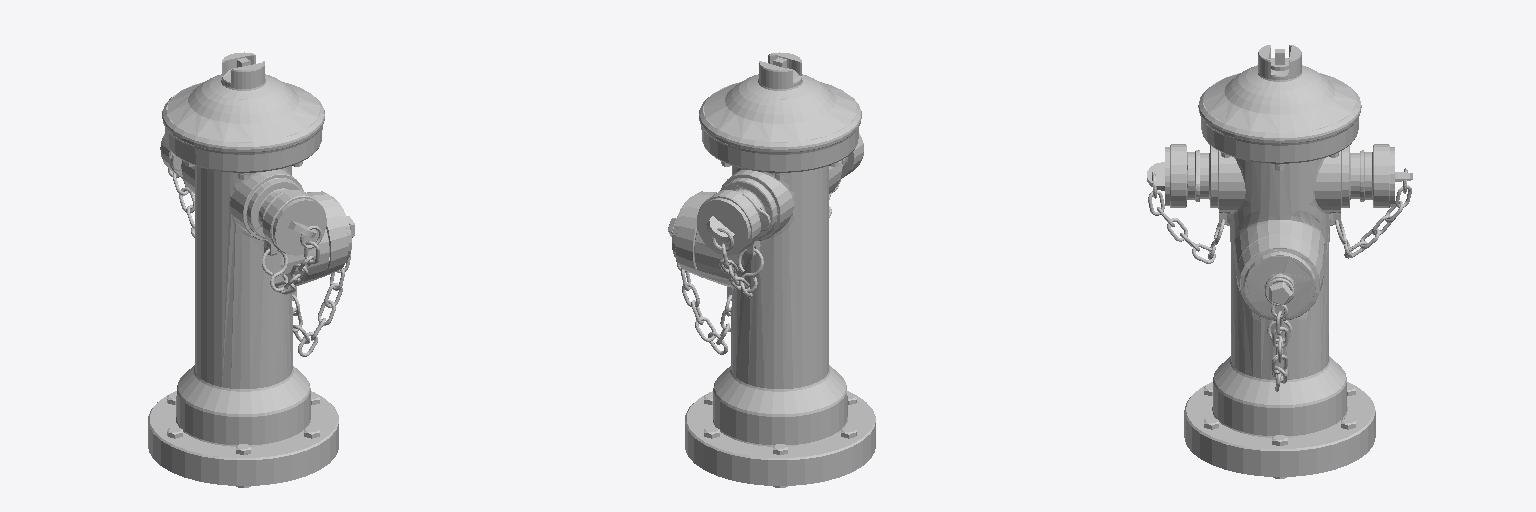
The model's file is FireHydrantMeshLOD2.obj.
The picture shows the model from 3 angles: view 1: azimuth 30°, elevation 25°; view 2: azimuth 150°, elevation 25°; view 3: azimuth 270°, elevation 25°; orthographic projection.
Visible parts, largest first — view 1: FireHydrant_FireHydrantMesh; view 2: FireHydrant_FireHydrantMesh; view 3: FireHydrant_FireHydrantMesh.
Part boxes in pixels (left/top/right/bottom): FireHydrant_FireHydrantMesh: left=148, top=52, right=354, bottom=487; FireHydrant_FireHydrantMesh: left=668, top=52, right=875, bottom=487; FireHydrant_FireHydrantMesh: left=1147, top=45, right=1412, bottom=478.
Bounding box in the file's own units: 0.5875 × 1.17 × 0.7101.